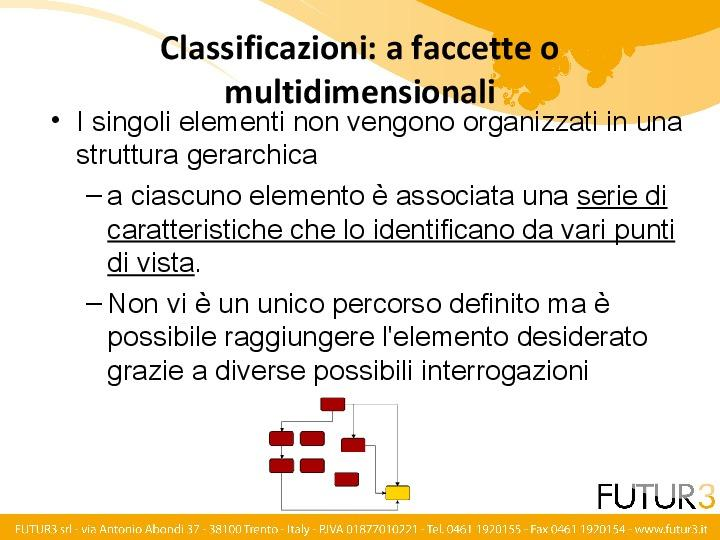paragraph: (68, 102, 706, 387)
title: (154, 23, 602, 108)
